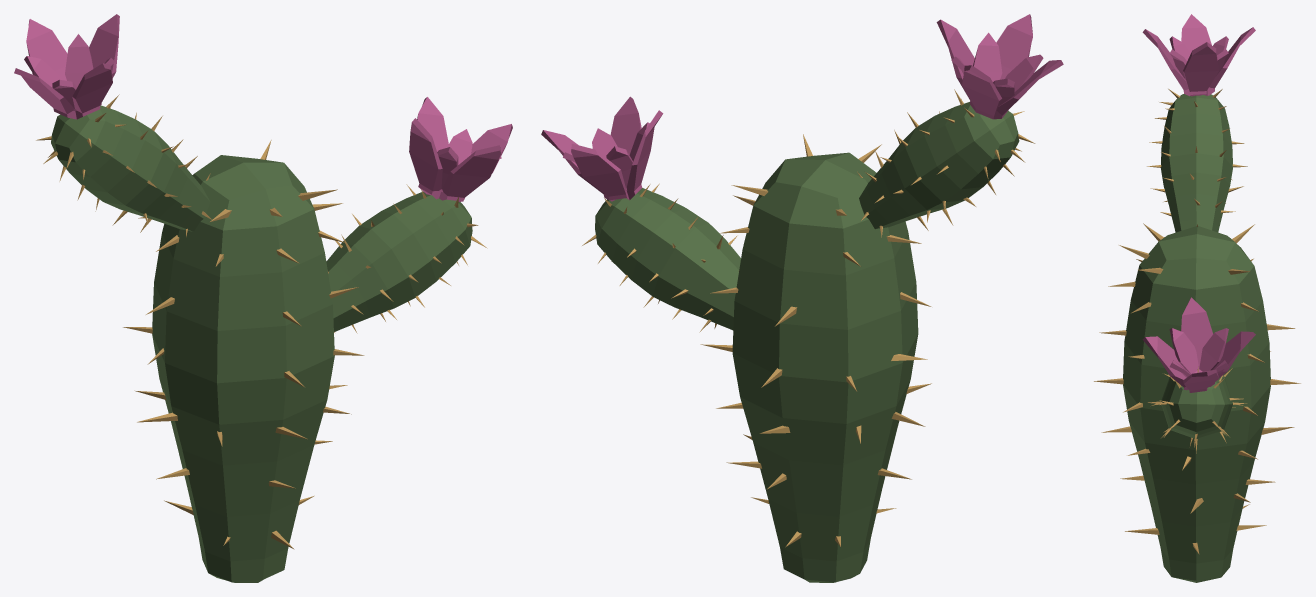
Rendered from Cactus1.glb.
The picture shows the model from 3 angles, left to right: view 1: azimuth 30°, elevation 25°; view 2: azimuth 150°, elevation 25°; view 3: azimuth 270°, elevation 25°; orthographic projection. The views are drawn at different scales.
Parts seen in each view (by area): view 1: Cactus_4; view 2: Cactus_4; view 3: Cactus_4.
Part boxes in pixels (x1,y1,x2,y2): Cactus_4: (14, 14, 512, 582); Cactus_4: (541, 14, 1063, 582); Cactus_4: (1094, 14, 1300, 582).
Size of the model in its own units: 1.31 by 1.43 by 0.5629.
